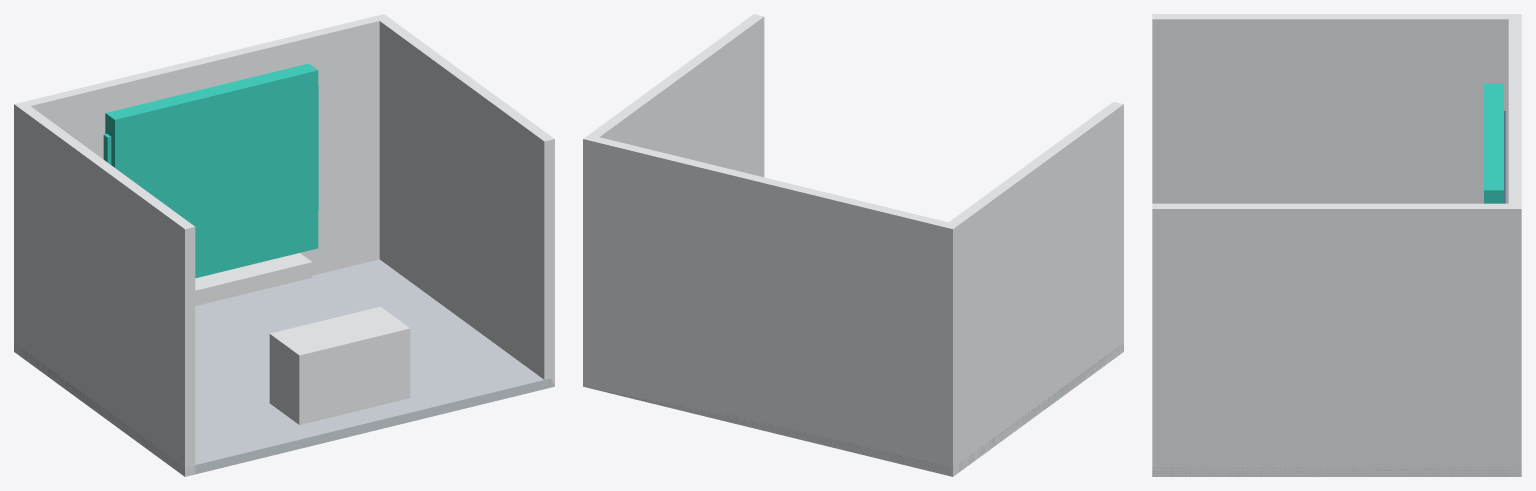
3 views of the same model, side by side, from view 1: azimuth 30°, elevation 25°; view 2: azimuth 150°, elevation 25°; view 3: azimuth 270°, elevation 25° (orthographic). The views are drawn at different scales.
Parts seen in each view (by area): view 1: Exhibition Booth Concept; view 2: Exhibition Booth Concept; view 3: Exhibition Booth Concept.
Boxes of the visible parts, left/top/right/bottom form: Exhibition Booth Concept: left=14, top=14, right=554, bottom=476; Exhibition Booth Concept: left=583, top=14, right=1123, bottom=476; Exhibition Booth Concept: left=1152, top=14, right=1521, bottom=476.
Size of the model in its own units: 5 by 3.2 by 4.
